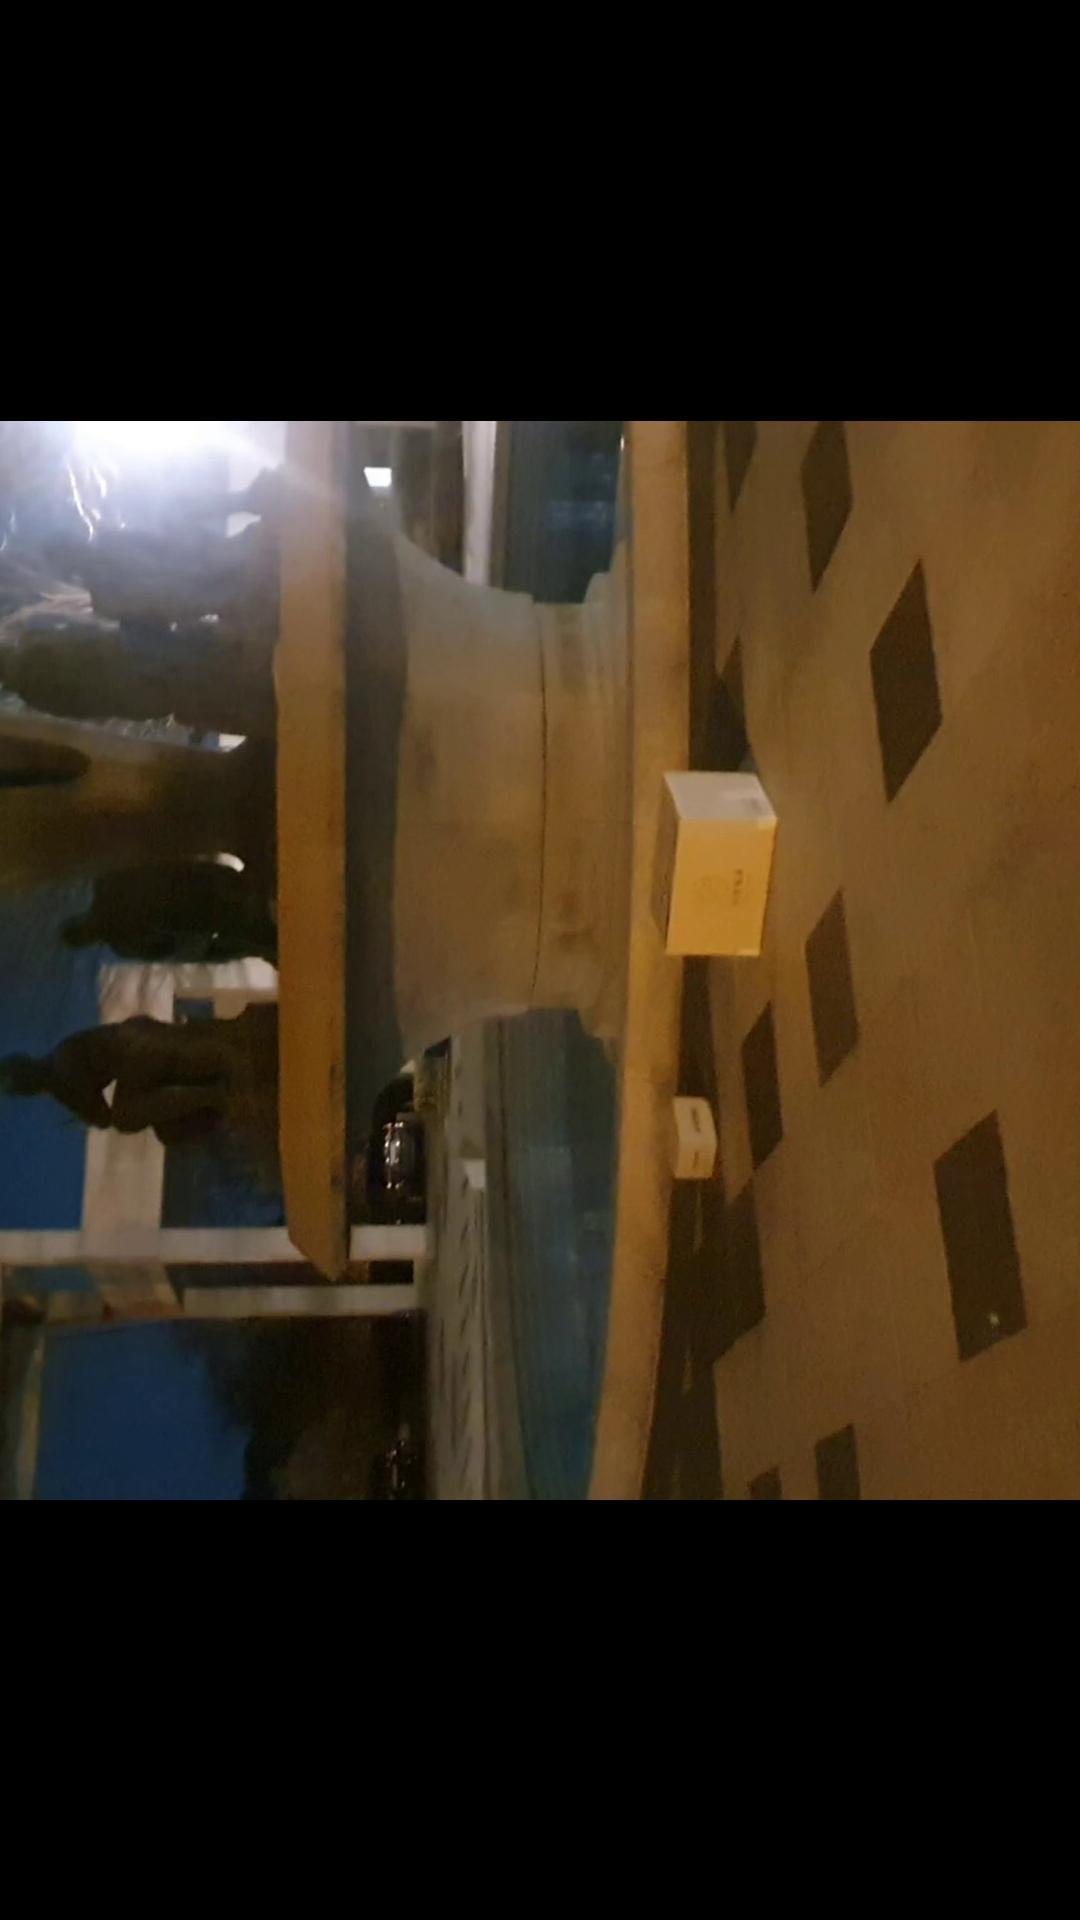Box: (638, 758, 789, 967), (647, 1088, 723, 1192)
